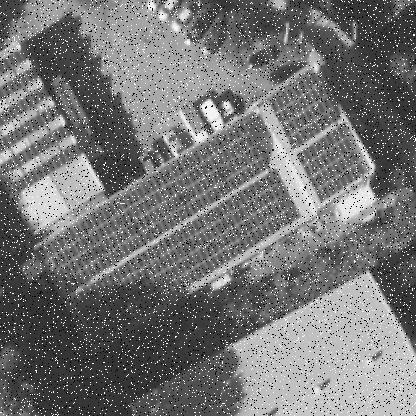solar-pv-panel: (43, 118, 269, 295), (72, 173, 296, 346), (270, 71, 340, 151), (297, 125, 365, 204)
